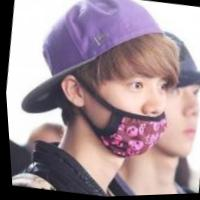NONE: (138, 82, 200, 164)
WRONG: (83, 65, 175, 163)
